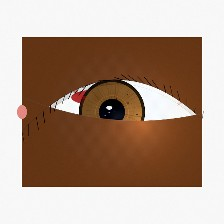hemorrhage_spot: (60, 65, 142, 130)
